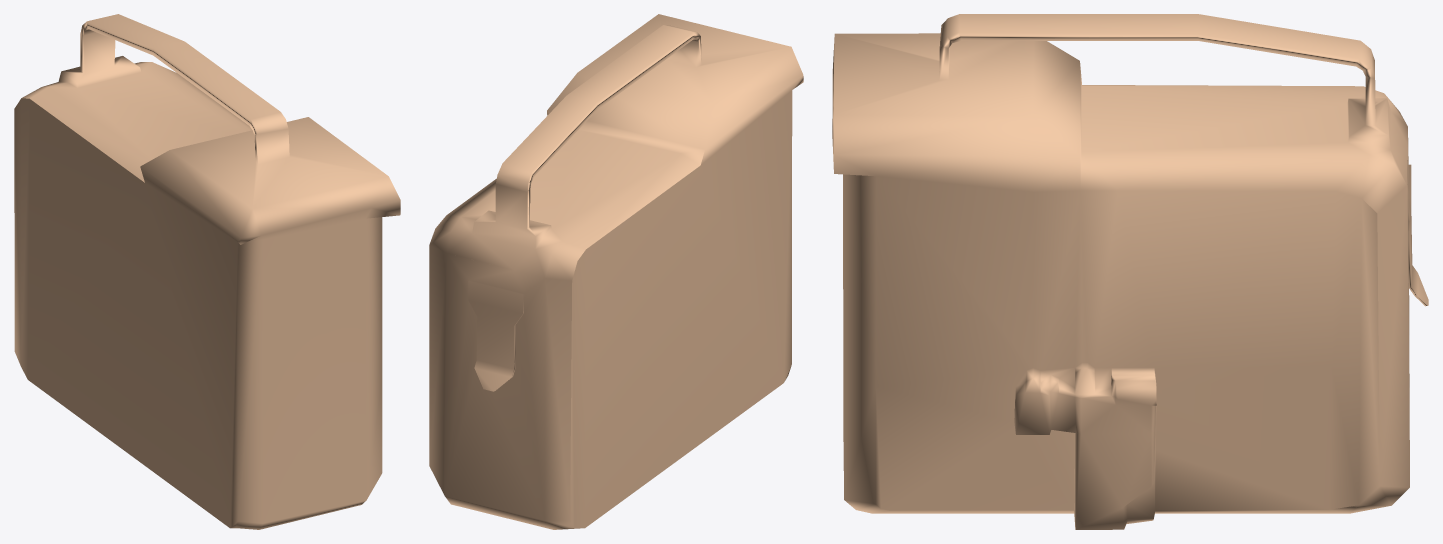
Rendered from GPMG_Mag.obj.
3 views of the same model, side by side, from view 1: azimuth 30°, elevation 25°; view 2: azimuth 150°, elevation 25°; view 3: azimuth 270°, elevation 25° (orthographic). The views are drawn at different scales.
Parts seen in each view (by area): view 1: washingturret_gpmg1.smd.004_washingturret_gpmg1.smd_MESH.004; view 2: washingturret_gpmg1.smd.004_washingturret_gpmg1.smd_MESH.004; view 3: washingturret_gpmg1.smd.004_washingturret_gpmg1.smd_MESH.004.
Boxes of the visible parts, bbox=[...] form: washingturret_gpmg1.smd.004_washingturret_gpmg1.smd_MESH.004: bbox=[14, 14, 400, 529]; washingturret_gpmg1.smd.004_washingturret_gpmg1.smd_MESH.004: bbox=[429, 14, 803, 529]; washingturret_gpmg1.smd.004_washingturret_gpmg1.smd_MESH.004: bbox=[832, 14, 1428, 529].
Size of the model in its own units: 0.1045 by 0.2141 by 0.2459.
